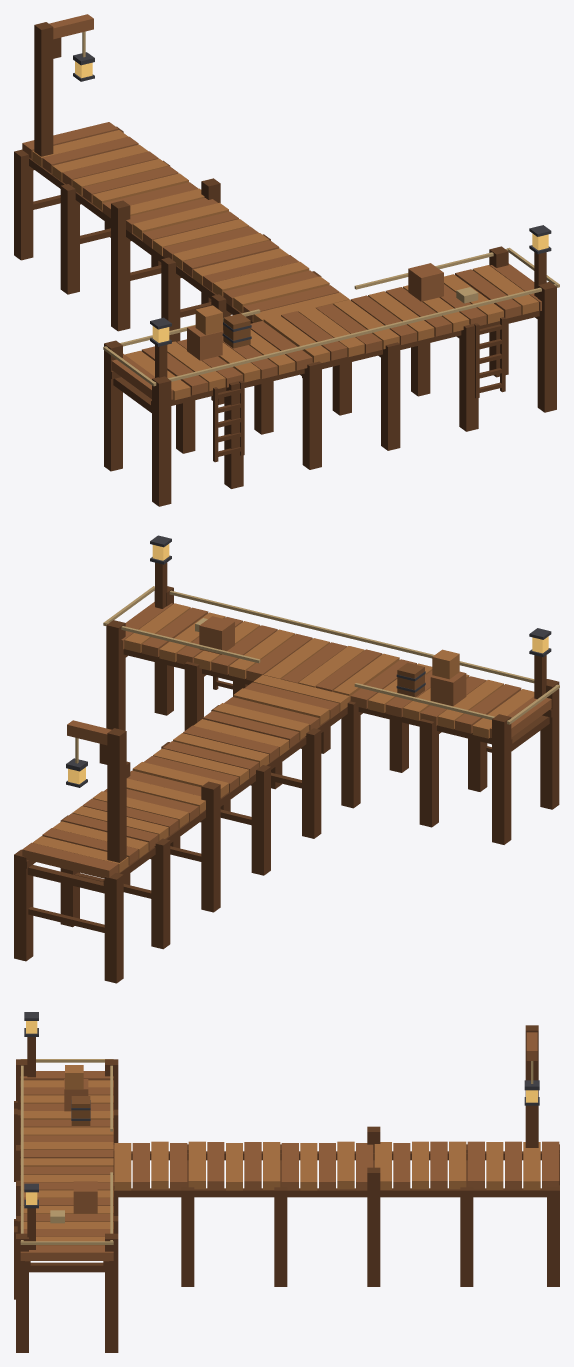
File: Dock.glb
The picture shows the model from 3 angles, top to bottom: view 1: azimuth 30°, elevation 25°; view 2: azimuth 150°, elevation 25°; view 3: azimuth 270°, elevation 25°; orthographic projection. The views are drawn at different scales.
Visible parts, largest first — view 1: Dock; view 2: Dock; view 3: Dock.
Part boxes in pixels (x1,y1,x2,y2): Dock: (14, 14, 559, 506); Dock: (14, 535, 559, 983); Dock: (14, 1012, 559, 1352).
Size of the model in its own units: 46.7 by 26 by 58.7.
Materials: 2 (2 with a texture image).
